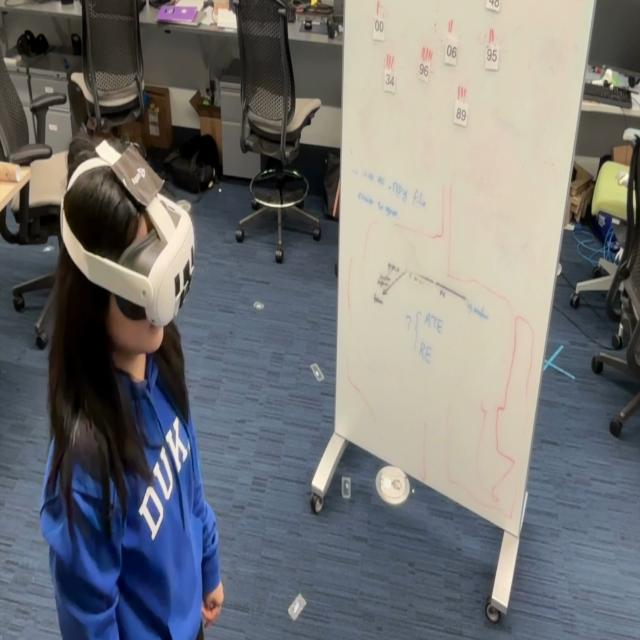Headset: (58, 140, 196, 328)
UnityLogo: (112, 143, 166, 216)
